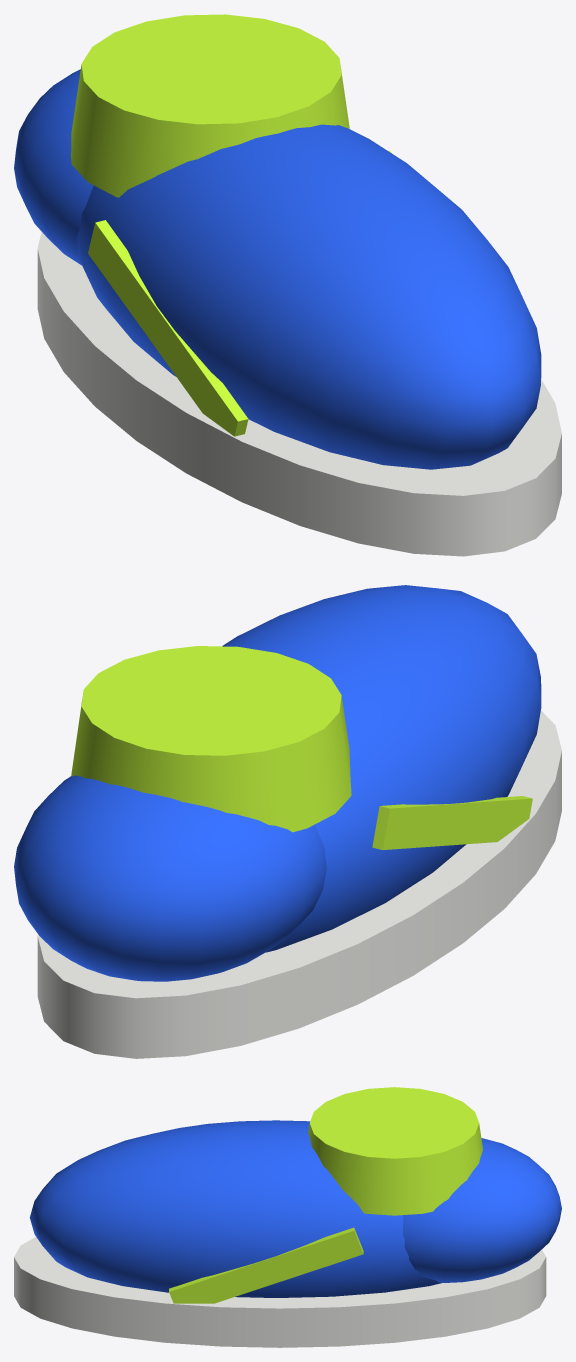
Rendered from shoes_runner_female.glb.
The picture shows the model from 3 angles, top to bottom: view 1: azimuth 30°, elevation 25°; view 2: azimuth 150°, elevation 25°; view 3: azimuth 270°, elevation 25°; orthographic projection. The views are drawn at different scales.
Visible parts, largest first — view 1: upper, sole, collar, heel_counter, swoosh; view 2: upper, heel_counter, sole, collar, swoosh; view 3: upper, sole, collar, heel_counter, swoosh.
Boxes of the visible parts, <box> form: upper: <box>77,124,541,469</box>; sole: <box>37,232,561,556</box>; collar: <box>71,14,349,197</box>; heel_counter: <box>14,69,93,265</box>; swoosh: <box>88,220,248,436</box>; upper: <box>222,585,541,952</box>; heel_counter: <box>14,775,326,981</box>; sole: <box>37,710,561,1058</box>; collar: <box>71,646,351,832</box>; swoosh: <box>372,796,532,849</box>; upper: <box>29,1120,441,1297</box>; sole: <box>14,1237,546,1347</box>; collar: <box>308,1087,482,1215</box>; heel_counter: <box>403,1138,561,1282</box>; swoosh: <box>169,1227,363,1303</box>.
Bounding box in the file's own units: 0.124 × 0.101 × 0.278.
